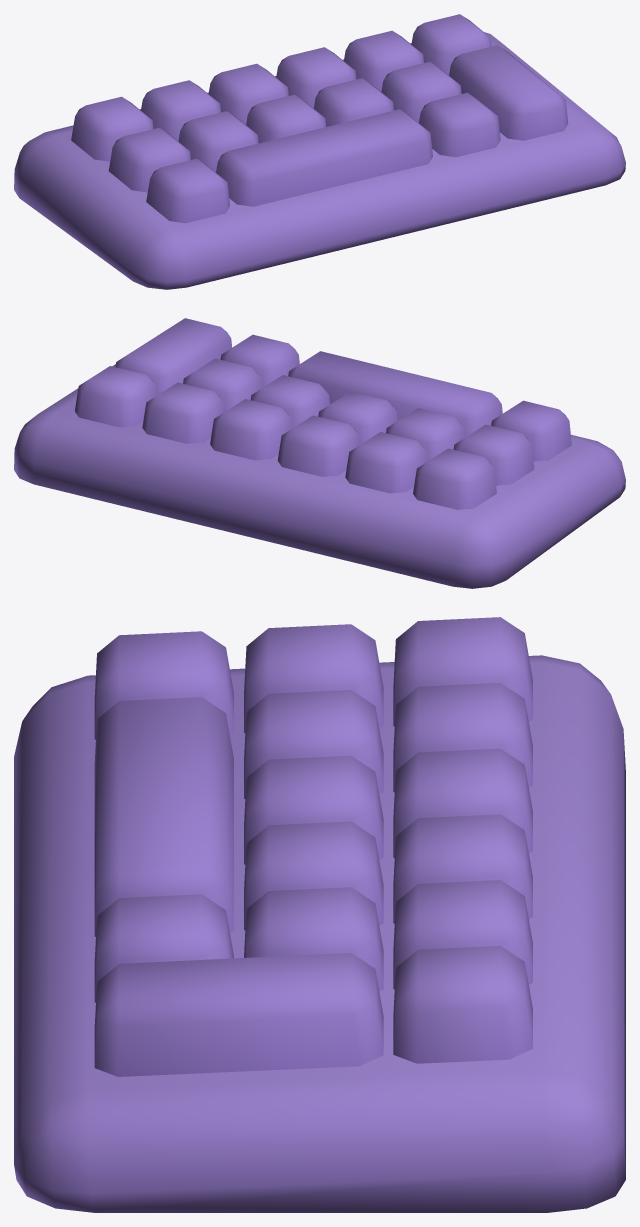
File: Keyboard_01.glb
The picture shows the model from 3 angles, top to bottom: view 1: azimuth 30°, elevation 25°; view 2: azimuth 150°, elevation 25°; view 3: azimuth 270°, elevation 25°; orthographic projection. The views are drawn at different scales.
Visible parts, largest first — view 1: Keyboard_01; view 2: Keyboard_01; view 3: Keyboard_01.
Boxes of the visible parts, <box> form: Keyboard_01: <box>14,14,625,289</box>; Keyboard_01: <box>14,318,625,588</box>; Keyboard_01: <box>14,617,625,1212</box>.
Bounding box in the file's own units: 0.4314 × 0.0746 × 0.2358.
Materials: 1 (1 with a texture image).
